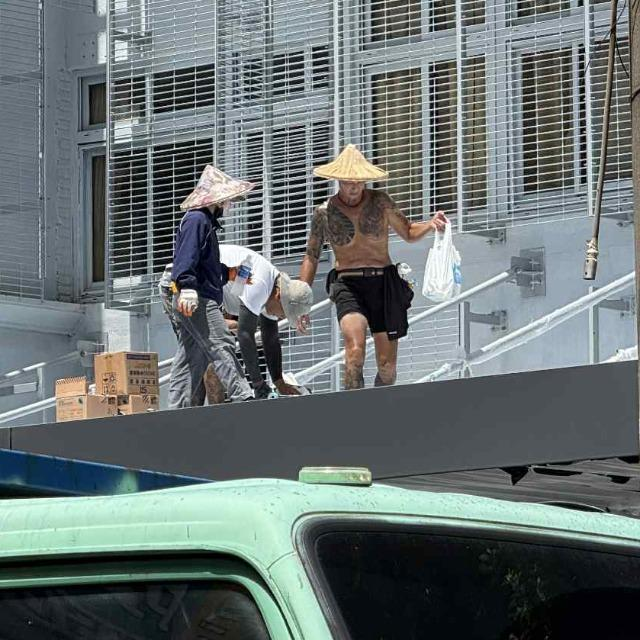NoHelmet: (310, 140, 393, 199), (178, 160, 257, 221)
NoVest: (318, 188, 398, 277), (163, 210, 225, 298)
